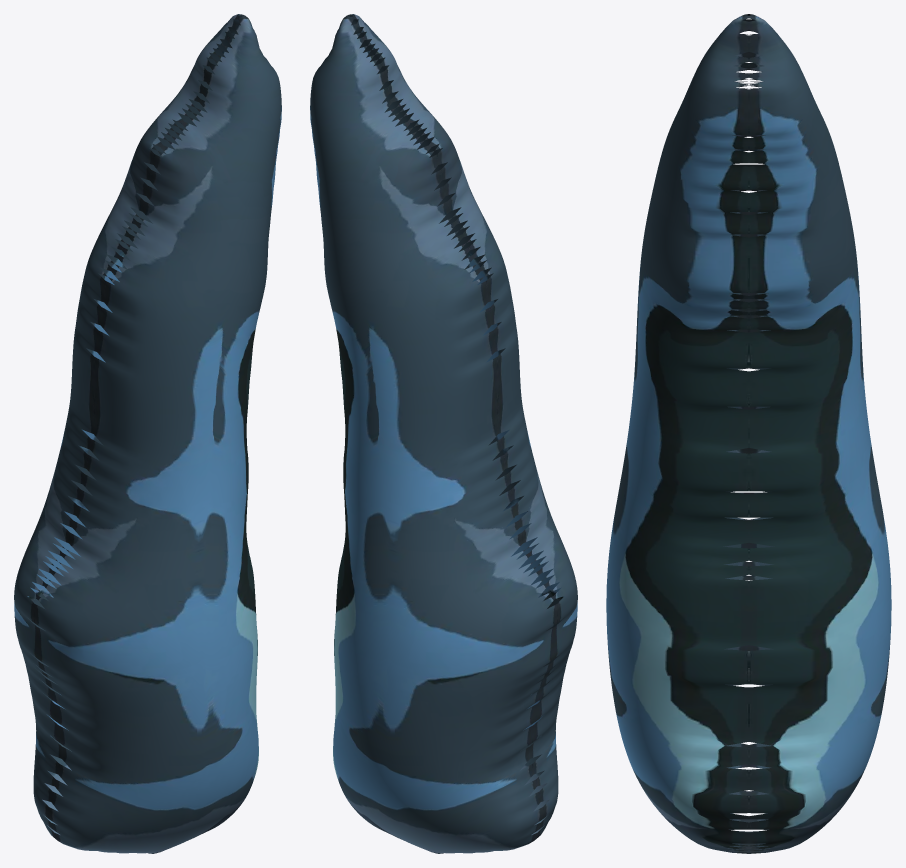
Rendered from blue_cliff.glb.
3 renders of one model, left to right at view 1: azimuth 30°, elevation 25°; view 2: azimuth 150°, elevation 25°; view 3: azimuth 270°, elevation 25°, orthographic. The views are drawn at different scales.
Visible parts, largest first — view 1: blue_cliff; view 2: blue_cliff; view 3: blue_cliff.
Boxes of the visible parts, x1=… form: blue_cliff: x1=14, y1=14, x2=281, y2=853; blue_cliff: x1=310, y1=14, x2=577, y2=853; blue_cliff: x1=606, y1=14, x2=891, y2=853.
Size of the model in its own units: 0.965 by 3.14 by 0.929.
Materials: 1 (1 with a texture image).
